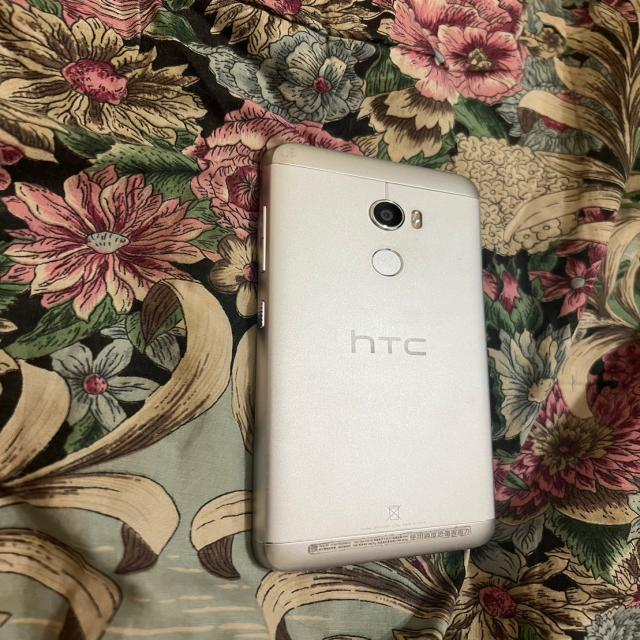Smartphone: (253, 144, 495, 572)
